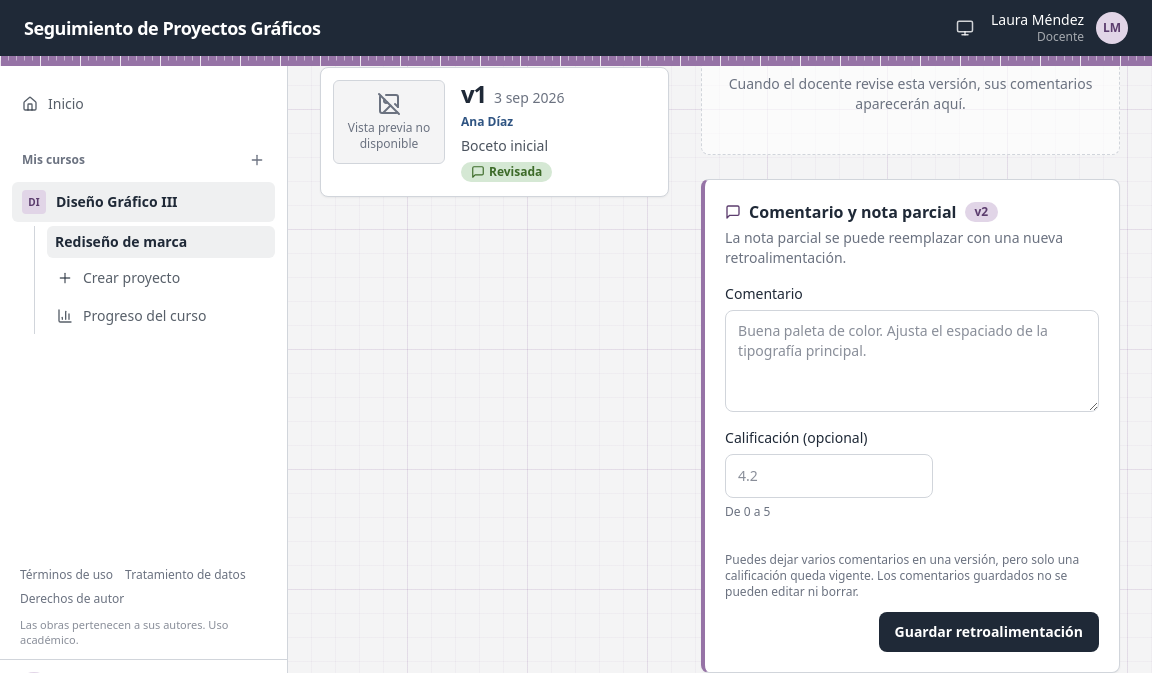
Scenario: VersionHistoryPage › valida la nota entre 0 y 5 antes de enviar
(page scrolled)
Type "Bien" into the text box labelled "Comentario" at x=912, y=361, box top-left (725, 310), bottom-right (1099, 412)
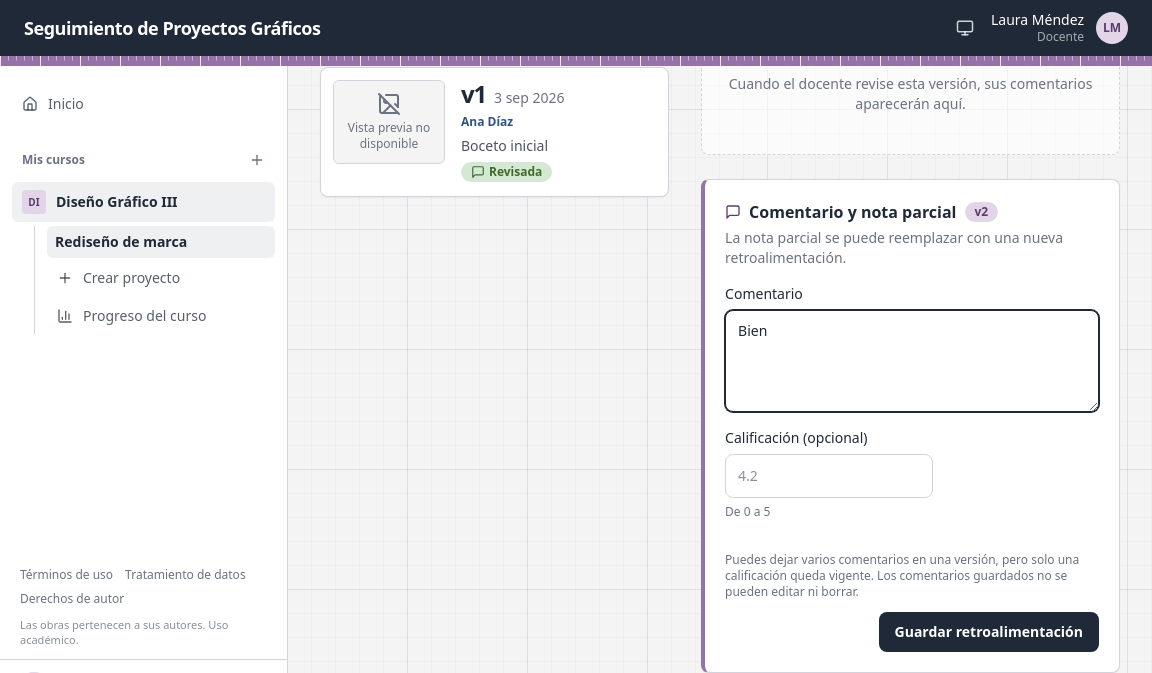
Type "7" into the number field labelled "Calificación (opcional)" at x=829, y=476, box top-left (725, 454), bottom-right (933, 498)
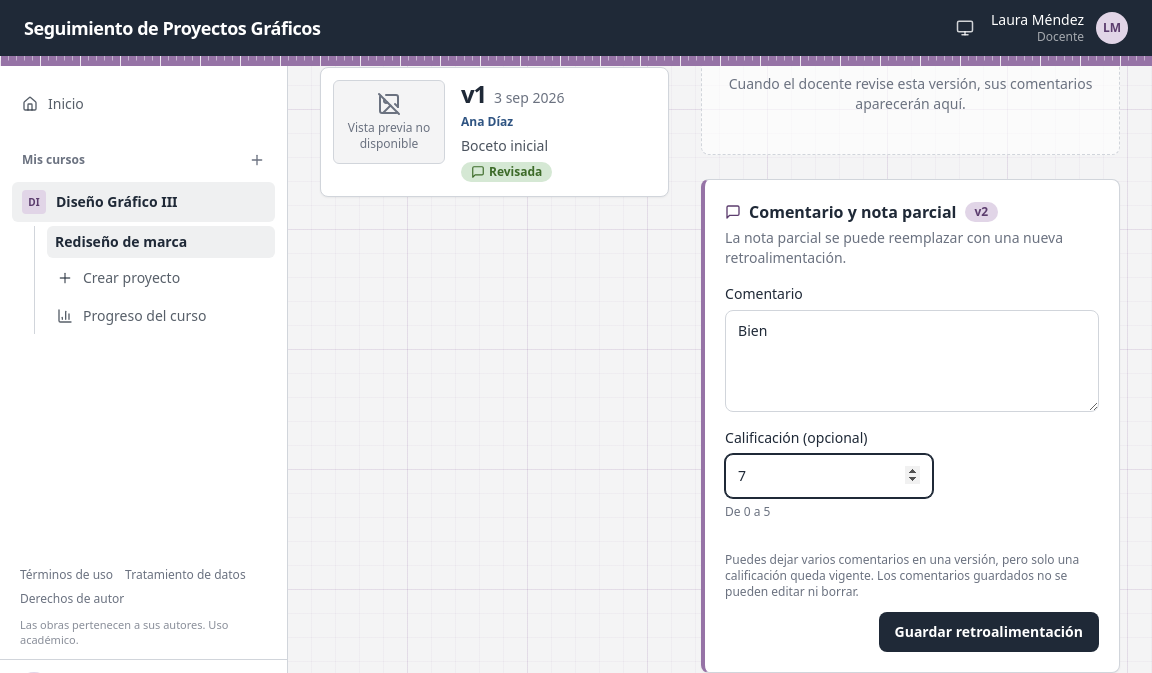
Click the button "Guardar retroalimentación" at x=989, y=632, box top-left (879, 612), bottom-right (1099, 652)
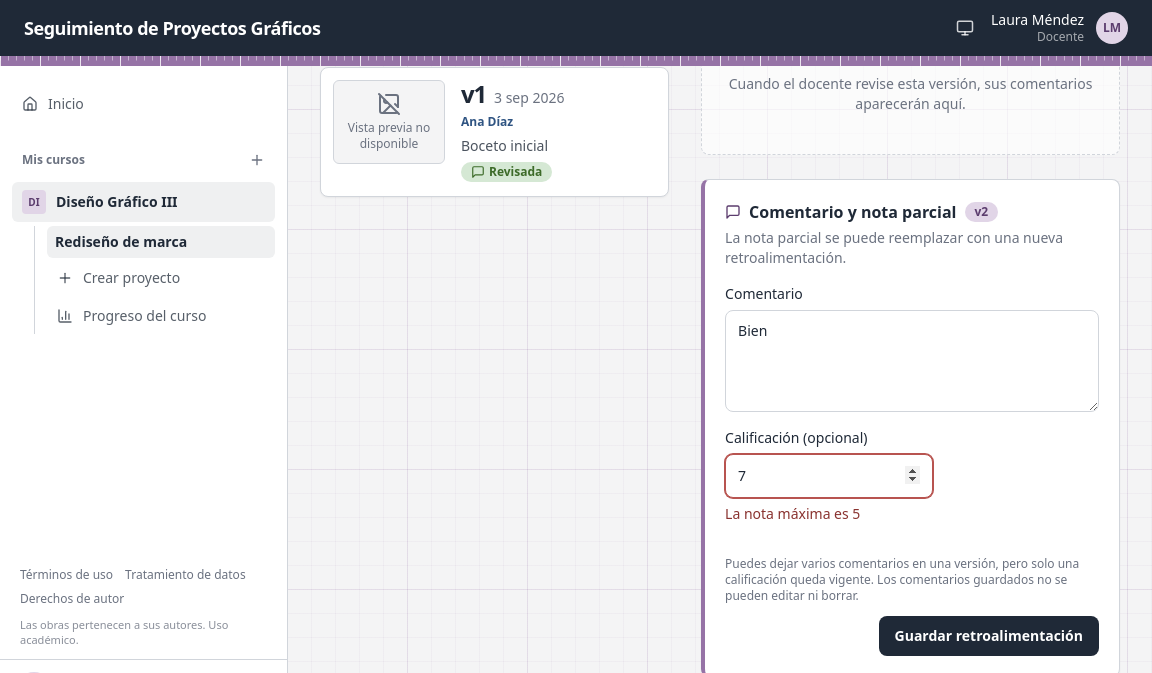
Check: the text "La nota máxima es 5" is shown, box top-left (725, 504), bottom-right (860, 523)
